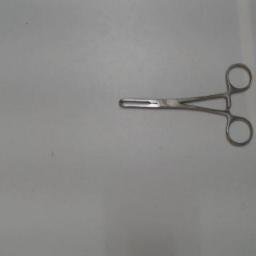Allis Tissue Forceps: (116, 58, 256, 152)
